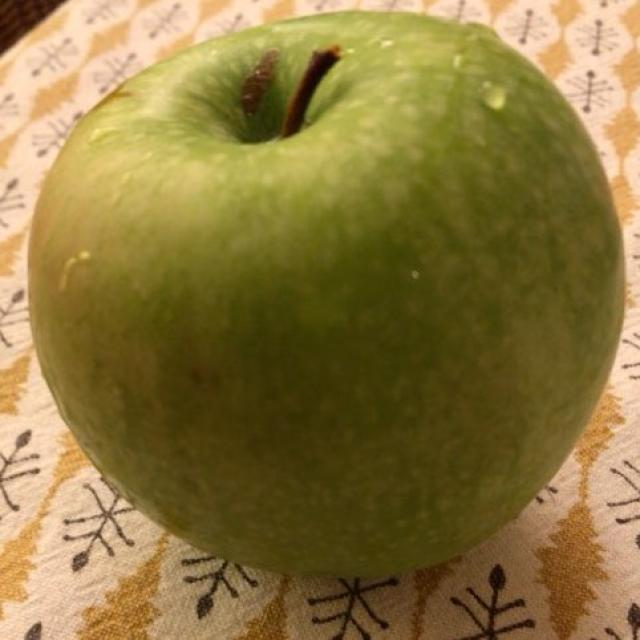apple: (44, 21, 613, 576)
